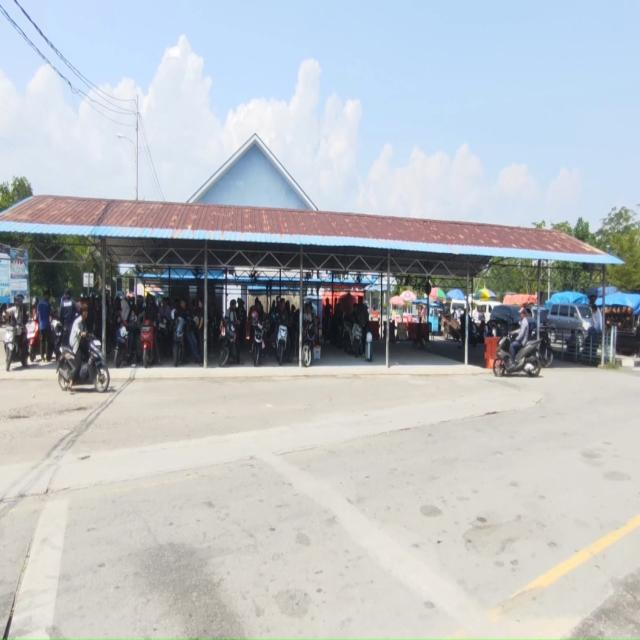Golongan II: (57, 335, 110, 393), (493, 334, 542, 377), (4, 324, 28, 372), (140, 320, 161, 368), (127, 313, 144, 364), (219, 322, 236, 367), (114, 322, 129, 368), (173, 316, 186, 367), (25, 319, 40, 363), (251, 320, 265, 366), (302, 322, 316, 368), (539, 328, 554, 368), (50, 318, 64, 359), (158, 317, 172, 356), (276, 324, 288, 365), (350, 322, 362, 357), (340, 318, 352, 352)
